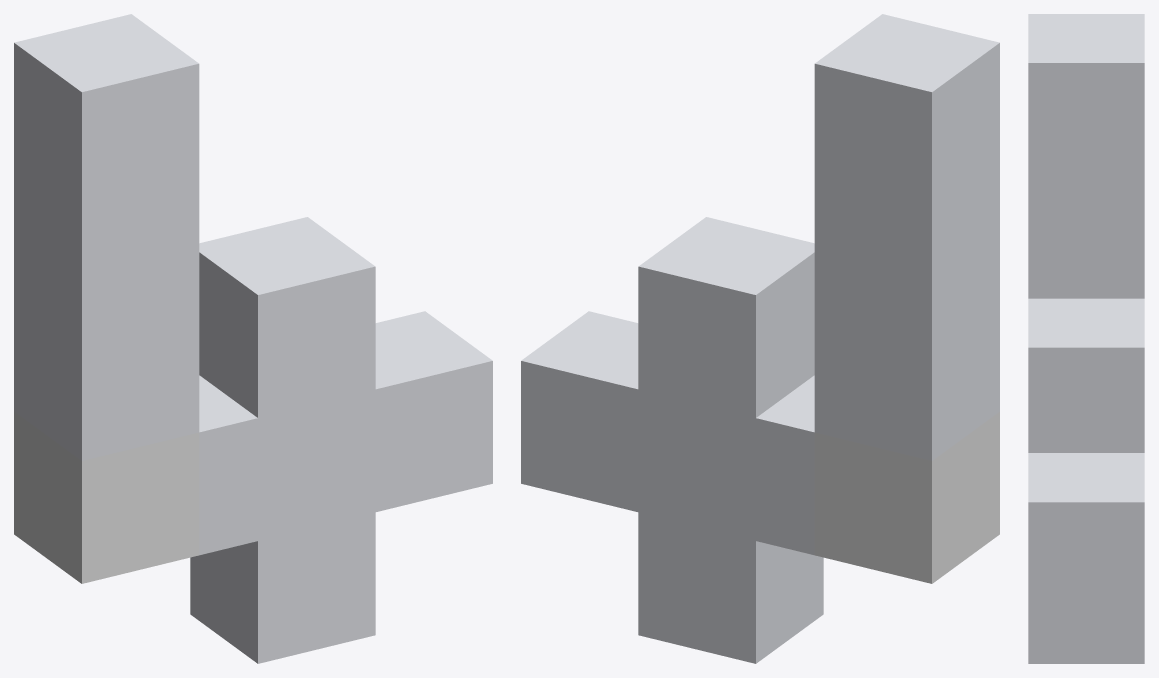
3 views of the same model, side by side, from view 1: azimuth 30°, elevation 25°; view 2: azimuth 150°, elevation 25°; view 3: azimuth 270°, elevation 25° (orthographic). The views are drawn at different scales.
Parts seen in each view (by area): view 1: Matrix_9; view 2: Matrix_9; view 3: Matrix_9.
Part boxes in pixels (x1,y1,x2,y2): Matrix_9: (14, 14, 492, 663); Matrix_9: (521, 14, 999, 663); Matrix_9: (1028, 14, 1144, 663).
Size of the model in its own units: 7 by 10 by 2.
Materials: 1 (1 with a texture image).
